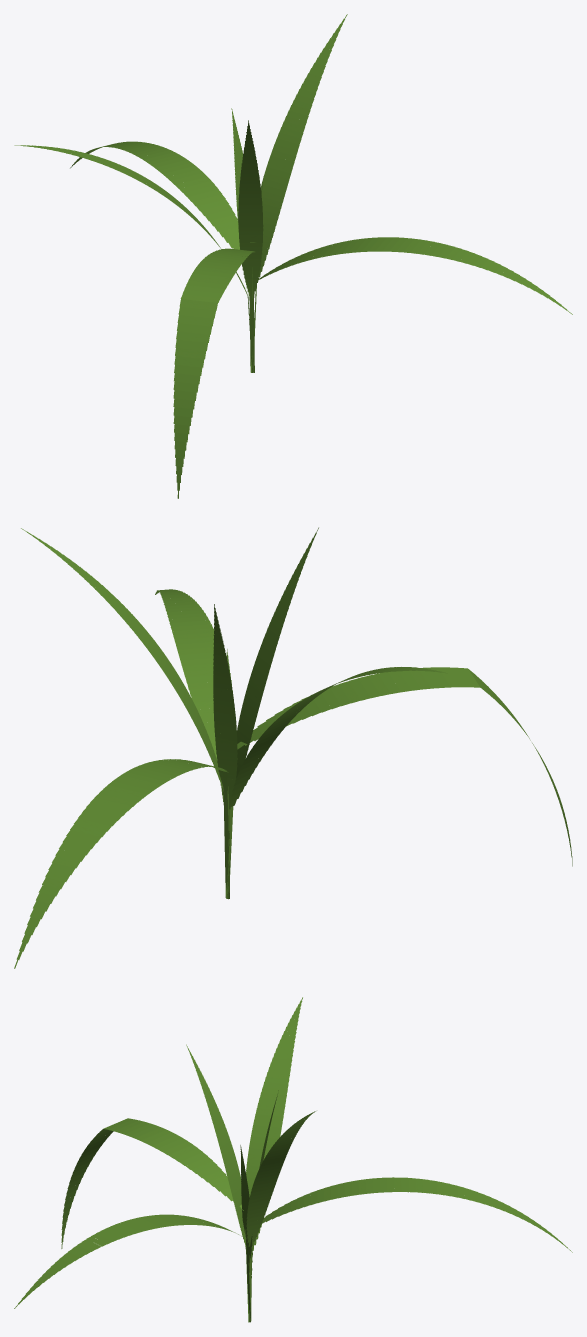
The model's file is maize_002_day_065.dae.
3 renders of one model, top to bottom at view 1: azimuth 30°, elevation 25°; view 2: azimuth 150°, elevation 25°; view 3: azimuth 270°, elevation 25°, orthographic. The views are drawn at different scales.
Parts seen in each view (by area): view 1: node; view 2: node; view 3: node.
Boxes of the visible parts, box(x1,y1,x2,y2) form: node: box(14, 14, 572, 498); node: box(14, 527, 572, 968); node: box(14, 997, 572, 1322).
Bounding box in the file's own units: 0.6861 × 0.5008 × 0.9195.
Materials: 1 (1 with a texture image).
